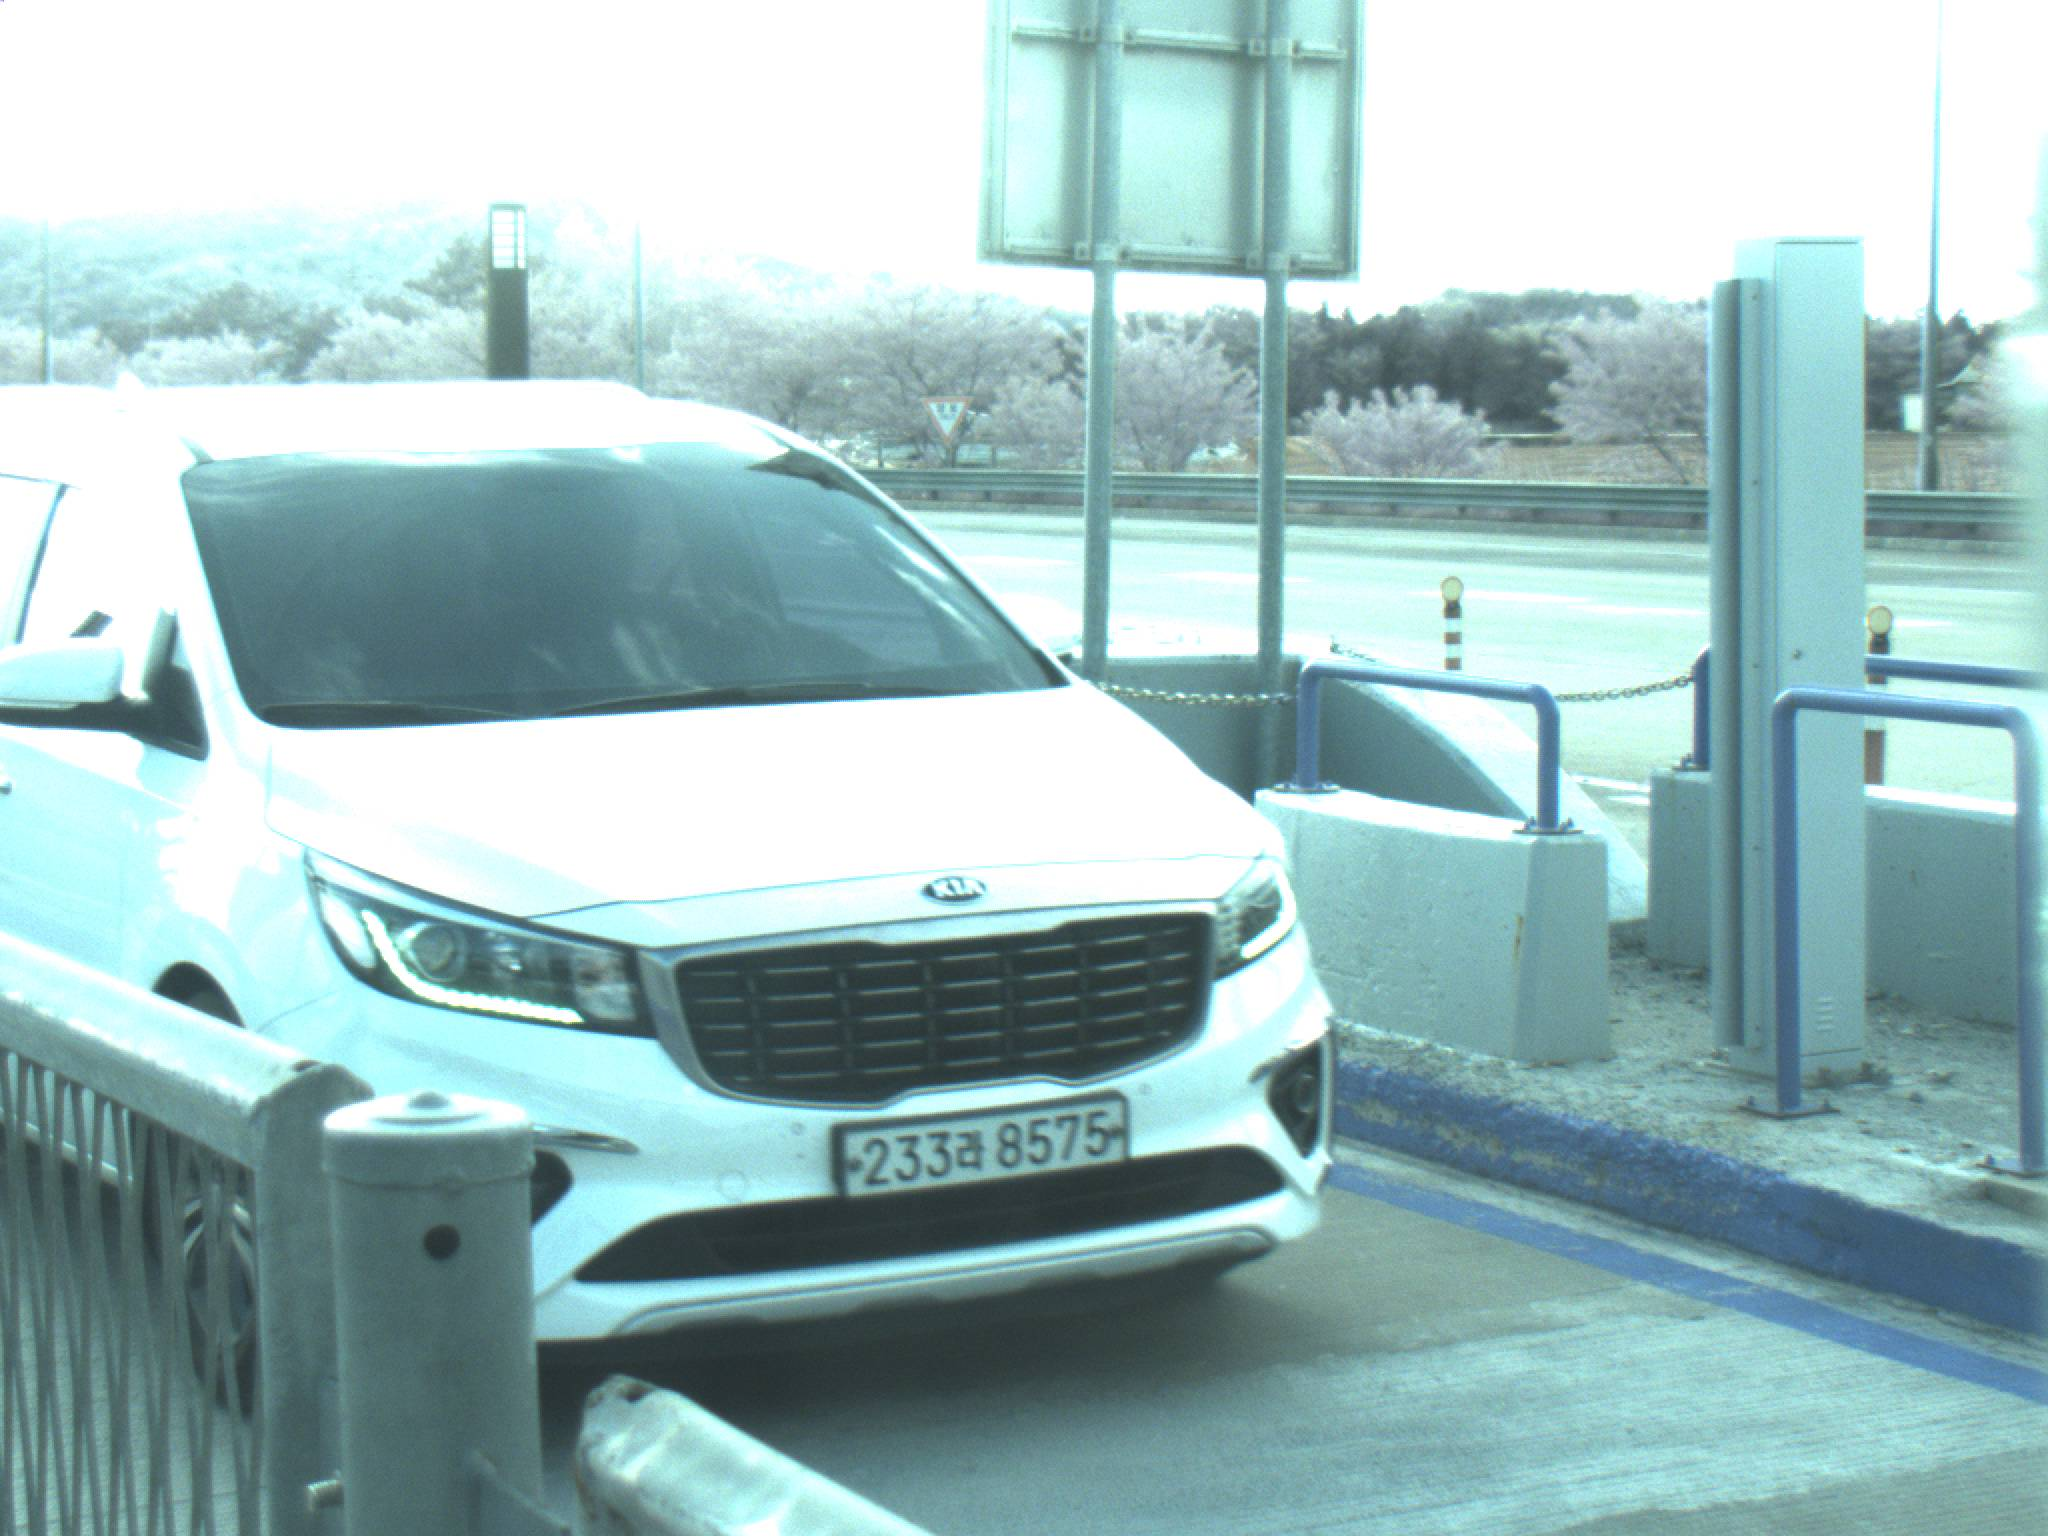car: (1, 377, 1338, 1423)
plate: (829, 1092, 1138, 1198)
